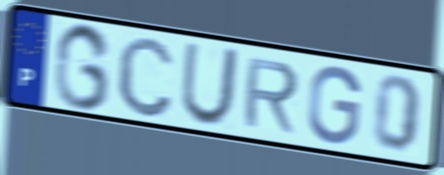0: (373, 72, 424, 157)
C: (114, 33, 177, 121)
G: (50, 21, 114, 113), (304, 63, 364, 147)
R: (240, 56, 302, 137)
U: (177, 41, 242, 129)
